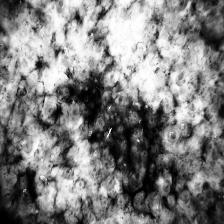Benign Marking or Mole: (57, 35, 183, 213)
